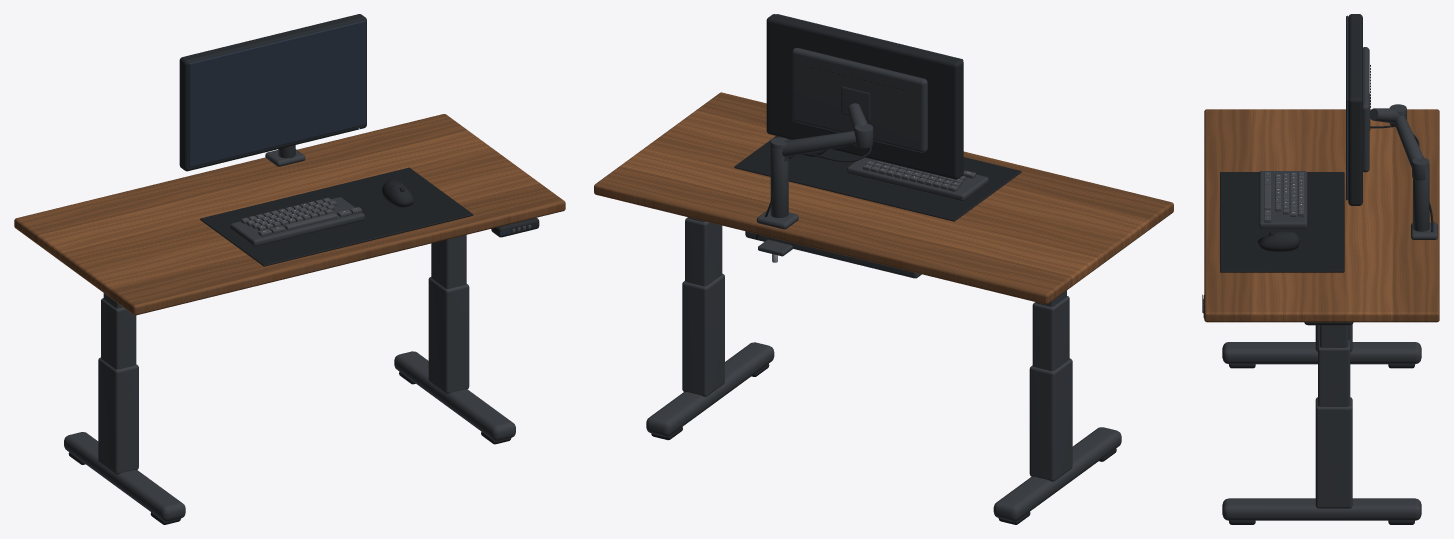
The model's file is family_standing_desk.glb.
The picture shows the model from 3 angles, left to right: view 1: azimuth 30°, elevation 25°; view 2: azimuth 150°, elevation 25°; view 3: azimuth 270°, elevation 25°; orthographic projection. The views are drawn at different scales.
Visible parts, largest first — view 1: family_standing_desk; view 2: family_standing_desk; view 3: family_standing_desk.
Part boxes in pixels (<box>): family_standing_desk: <box>14,14,565,524</box>; family_standing_desk: <box>594,14,1173,524</box>; family_standing_desk: <box>1202,14,1439,524</box>.
Size of the model in its own units: 1.4 by 1.23 by 0.686.
9 materials, 1 textured.
